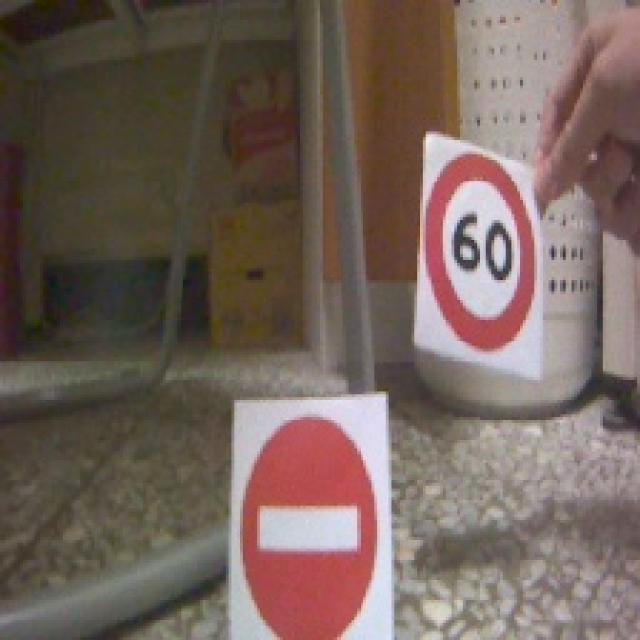DoNotEnterSign: (240, 415, 376, 640)
